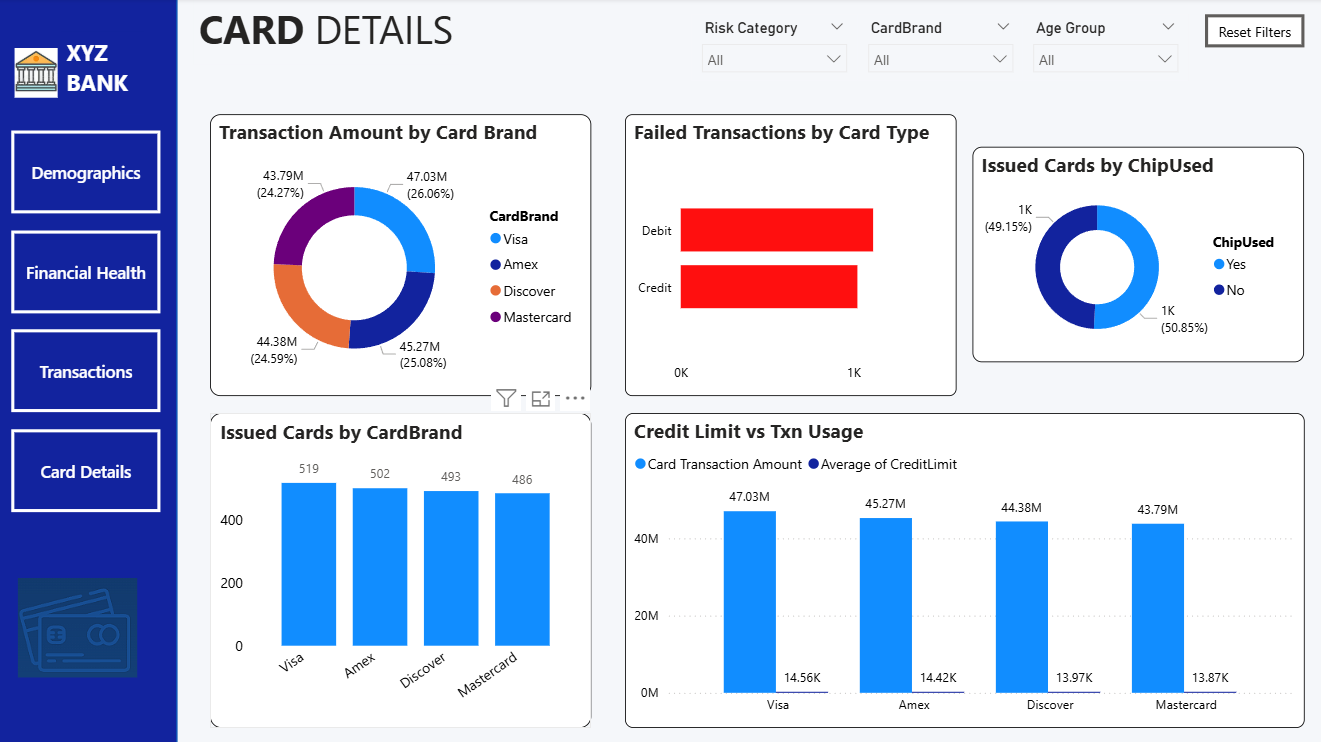

Layout of this report page (visuals, bound fields, positions):
{"tool":"powerbi","page":{"name":"Card Details","canvas":[1280,720],"ordinal":3},"visuals":[{"type":"shape","box":[0,0,176,720],"z":0},{"type":"actionButton","box":[16,416,144,80],"z":1000},{"type":"actionButton","box":[16,320,144,80],"z":2000},{"type":"actionButton","box":[16,224,144,80],"z":3000},{"type":"actionButton","box":[16,128,144,80],"z":4000},{"type":"donutChart","title":"Transaction Amount by Card Brand","fields":{"Category":["Dim_Card.CardBrand"],"Y":["Fact_Transactions.Card Transaction Amount"]},"box":[208,112,368,272],"z":5000},{"type":"clusteredColumnChart","fields":{"Category":["Dim_Card.CardBrand"],"Y":["Fact_Transactions.Issued Cards"]},"box":[208,400,368,304],"z":6000},{"type":"clusteredBarChart","title":"Failed Transactions by Card Type","fields":{"Category":["Dim_Card.CardType"],"Y":["Fact_Transactions.Failed Transactions (Cards)"]},"box":[608,112,320,272],"z":7000},{"type":"clusteredColumnChart","title":"Credit Limit vs Txn Usage","fields":{"Category":["Dim_Card.CardBrand"],"Y":["Fact_Transactions.Card Transaction Amount","Avg(Dim_Card.CreditLimit)"]},"box":[608,400,656,304],"z":8000},{"type":"donutChart","fields":{"Category":["Dim_Card.ChipUsed"],"Y":["Fact_Transactions.Issued Cards"]},"box":[944,144,320,208],"z":9000},{"type":"actionButton","box":[1168,16,96,32],"z":10000},{"type":"textbox","box":[192,0,256,64],"z":10001},{"type":"slicer","fields":{"Values":["Dim_Card.CardBrand"]},"box":[832,16,160,64],"z":10002},{"type":"slicer","fields":{"Values":["Fact_Debt.Risk Category"]},"box":[672,16,160,64],"z":10003},{"type":"slicer","fields":{"Values":["Dim_Client.Age Group"]},"box":[992,16,160,64],"z":10004},{"type":"image","box":[16,560,128,96],"z":10005},{"type":"image","box":[16,48,48,48],"z":10006},{"type":"textbox","box":[64,32,80,80],"z":10007}]}

Visuals, with their boxes in screenshot pixels (x1, y1, x2, y2), scaled from the page's 1280x720 canvas onto the 1321x742 screenshot:
shape: <bbox>0, 0, 182, 741</bbox>
actionButton: <bbox>17, 429, 165, 511</bbox>
actionButton: <bbox>17, 330, 165, 412</bbox>
actionButton: <bbox>17, 231, 165, 313</bbox>
actionButton: <bbox>17, 132, 165, 214</bbox>
"Transaction Amount by Card Brand" donutChart: <bbox>215, 115, 594, 396</bbox>
clusteredColumnChart - Dim_Card.CardBrand x Fact_Transactions.Issued Cards: <bbox>215, 412, 594, 726</bbox>
"Failed Transactions by Card Type" clusteredBarChart: <bbox>627, 115, 958, 396</bbox>
"Credit Limit vs Txn Usage" clusteredColumnChart: <bbox>627, 412, 1304, 726</bbox>
donutChart - Dim_Card.ChipUsed x Fact_Transactions.Issued Cards: <bbox>974, 148, 1304, 363</bbox>
actionButton: <bbox>1205, 16, 1304, 49</bbox>
textbox: <bbox>198, 0, 462, 66</bbox>
slicer - Dim_Card.CardBrand: <bbox>859, 16, 1024, 82</bbox>
slicer - Fact_Debt.Risk Category: <bbox>694, 16, 859, 82</bbox>
slicer - Dim_Client.Age Group: <bbox>1024, 16, 1189, 82</bbox>
image: <bbox>17, 577, 149, 676</bbox>
image: <bbox>17, 49, 66, 99</bbox>
textbox: <bbox>66, 33, 149, 115</bbox>
